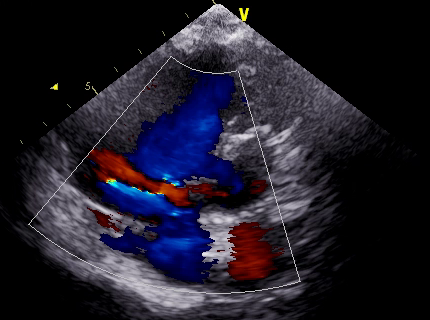TR: (132, 167, 208, 234)
